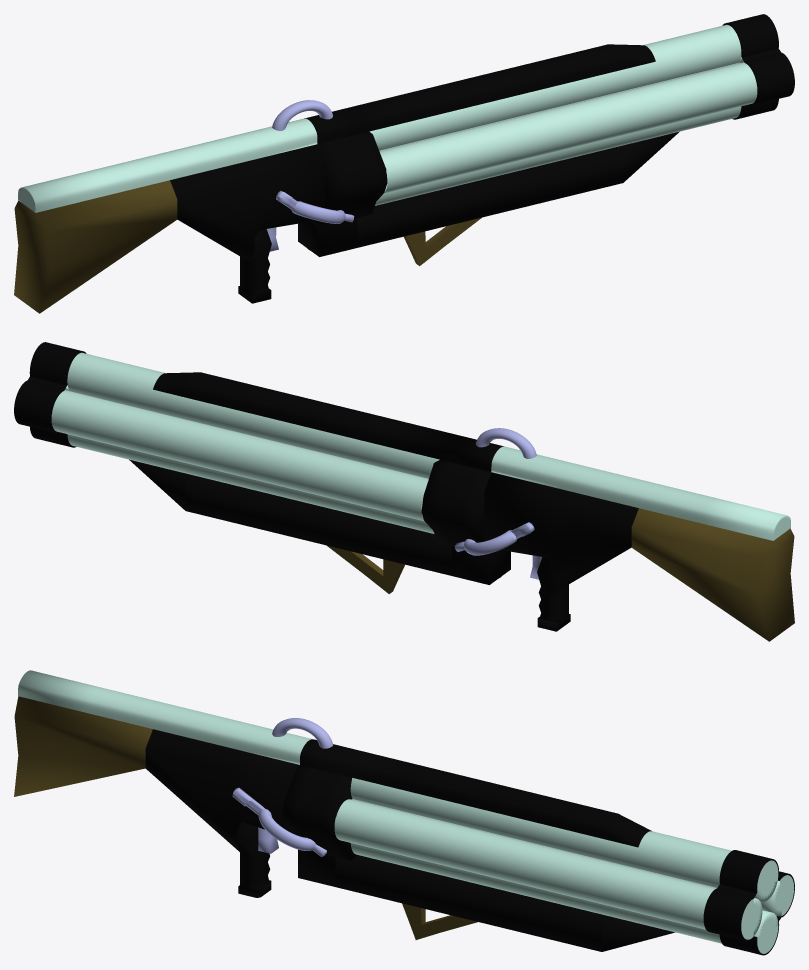
The model's file is Quadblaster.fbx.
3 renders of one model, top to bottom at view 1: azimuth 30°, elevation 25°; view 2: azimuth 150°, elevation 25°; view 3: azimuth 330°, elevation 25°, orthographic.
Visible parts, largest first — view 1: barrels, upper holder, under holder, stock, mechanism part, upper stock, barrel holder, grip, under grip, side holder p1, upper mechanic; view 2: barrels, upper holder, under holder, stock, mechanism part, upper stock, barrel holder, grip, under grip, side holder p2, upper mechanic; view 3: barrels, upper holder, under holder, mechanism part, stock, upper stock, barrel holder, grip, side holder p1, under grip, upper mechanic.
Part boxes in pixels (x1=…): barrels: x1=369, y1=24, x2=757, y2=205; upper holder: x1=304, y1=44, x2=655, y2=227; under holder: x1=298, y1=131, x2=679, y2=256; stock: x1=14, y1=180, x2=177, y2=313; mechanism part: x1=170, y1=144, x2=324, y2=262; upper stock: x1=18, y1=118, x2=317, y2=212; barrel holder: x1=722, y1=14, x2=794, y2=119; grip: x1=240, y1=229, x2=271, y2=295; under grip: x1=404, y1=217, x2=481, y2=265; side holder p1: x1=276, y1=190, x2=354, y2=223; upper mechanic: x1=272, y1=100, x2=332, y2=130; barrels: x1=51, y1=352, x2=439, y2=533; upper holder: x1=153, y1=372, x2=503, y2=554; under holder: x1=129, y1=459, x2=510, y2=584; stock: x1=631, y1=508, x2=794, y2=641; mechanism part: x1=484, y1=472, x2=638, y2=590; upper stock: x1=491, y1=446, x2=790, y2=540; barrel holder: x1=14, y1=342, x2=86, y2=447; grip: x1=537, y1=557, x2=568, y2=623; under grip: x1=327, y1=545, x2=404, y2=593; side holder p2: x1=454, y1=522, x2=534, y2=555; upper mechanic: x1=475, y1=428, x2=536, y2=458; barrels: x1=334, y1=778, x2=794, y2=953; upper holder: x1=282, y1=739, x2=651, y2=860; under holder: x1=298, y1=849, x2=675, y2=951; mechanism part: x1=145, y1=729, x2=300, y2=851; stock: x1=14, y1=696, x2=152, y2=796; upper stock: x1=18, y1=670, x2=312, y2=764; barrel holder: x1=703, y1=850, x2=794, y2=955; grip: x1=235, y1=821, x2=270, y2=889; side holder p1: x1=232, y1=787, x2=326, y2=856; under grip: x1=402, y1=903, x2=477, y2=939; upper mechanic: x1=272, y1=718, x2=332, y2=748.
Size of the model in its own units: 4026 by 993 by 514.
